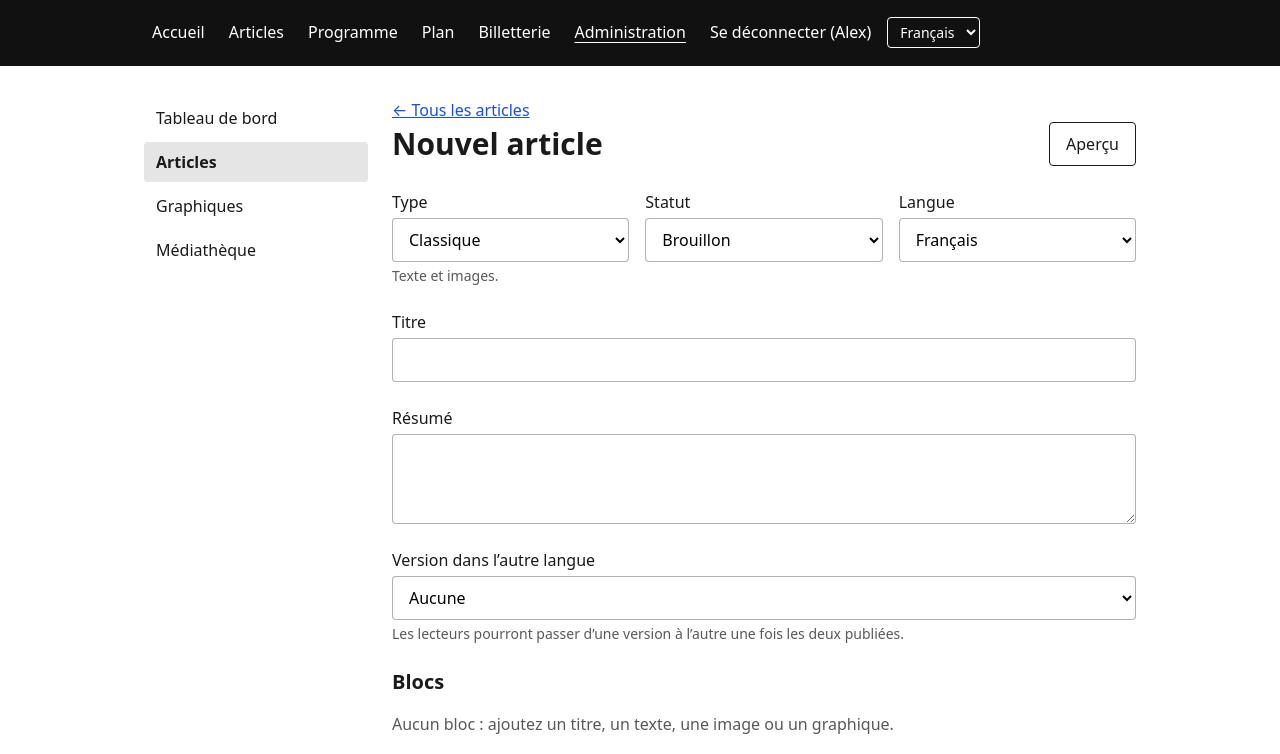
article editor › writes a new classic article and opens it
Type "Le festival en images" into the field labelled "Titre" at (764, 360), box top-left (392, 338), bottom-right (1136, 382)
(page scrolled)
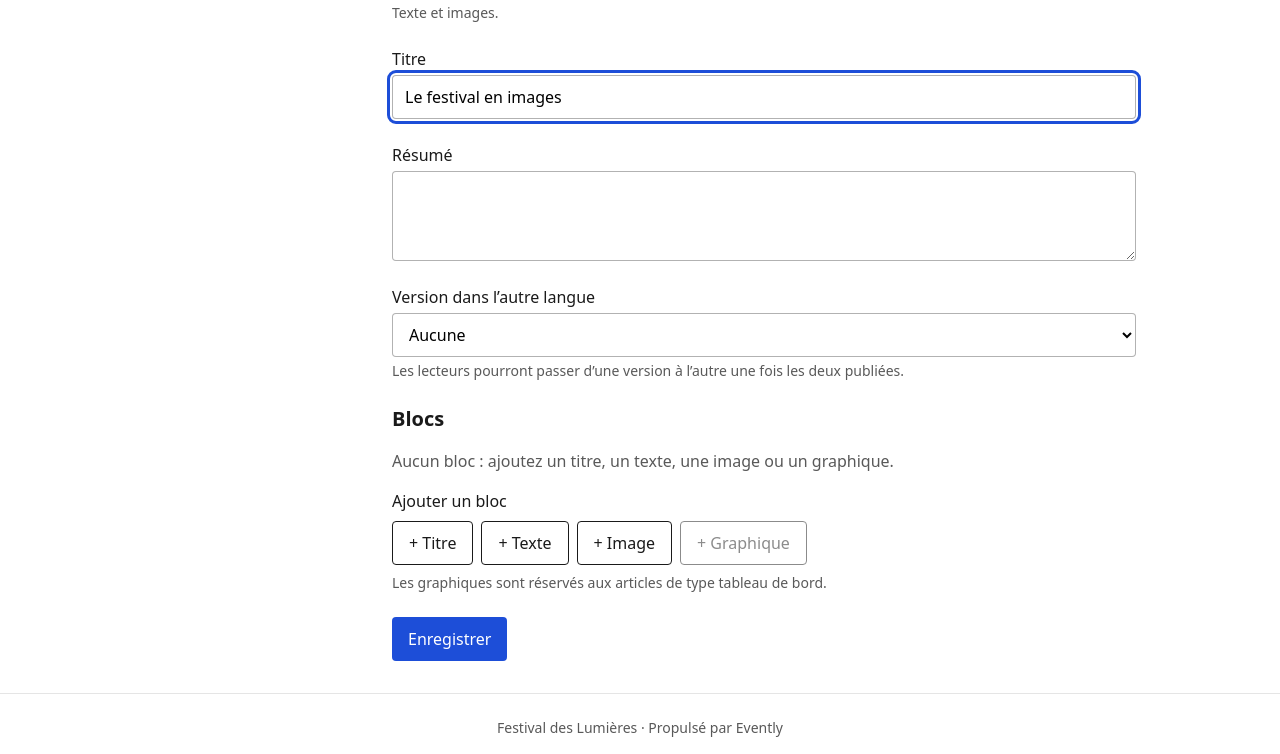
Click the button "+ Titre" at (433, 543), box top-left (392, 521), bottom-right (473, 565)
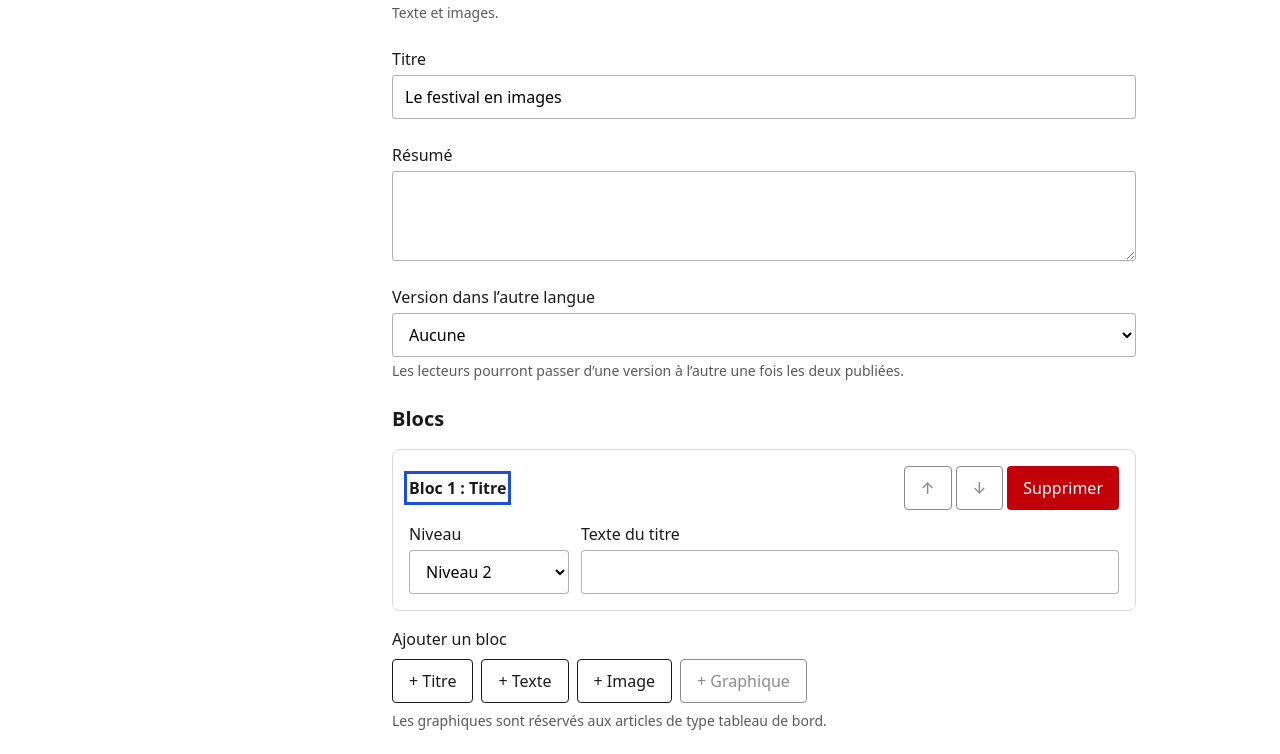
Type "Ambiance" into the field labelled "Texte du titre" at (850, 572), box top-left (581, 550), bottom-right (1119, 594)
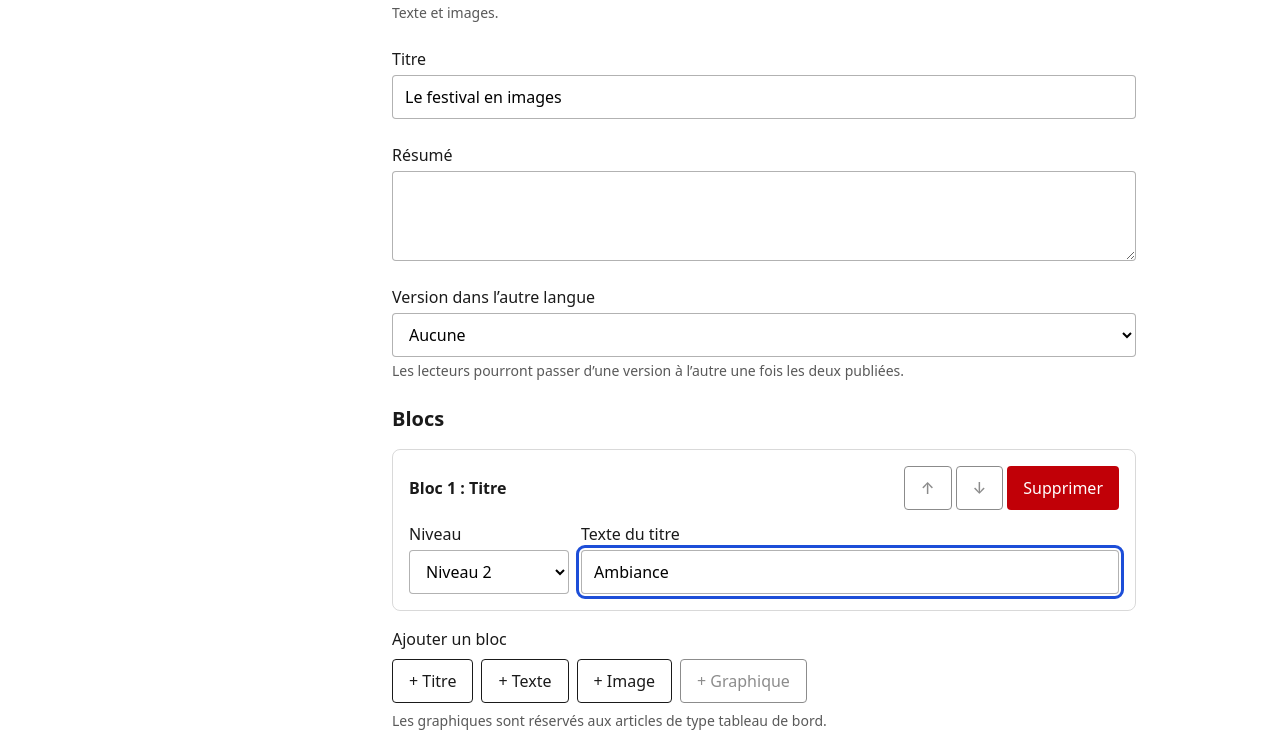
Click the button "+ Texte" at (525, 681), box top-left (481, 659), bottom-right (568, 703)
(page scrolled)
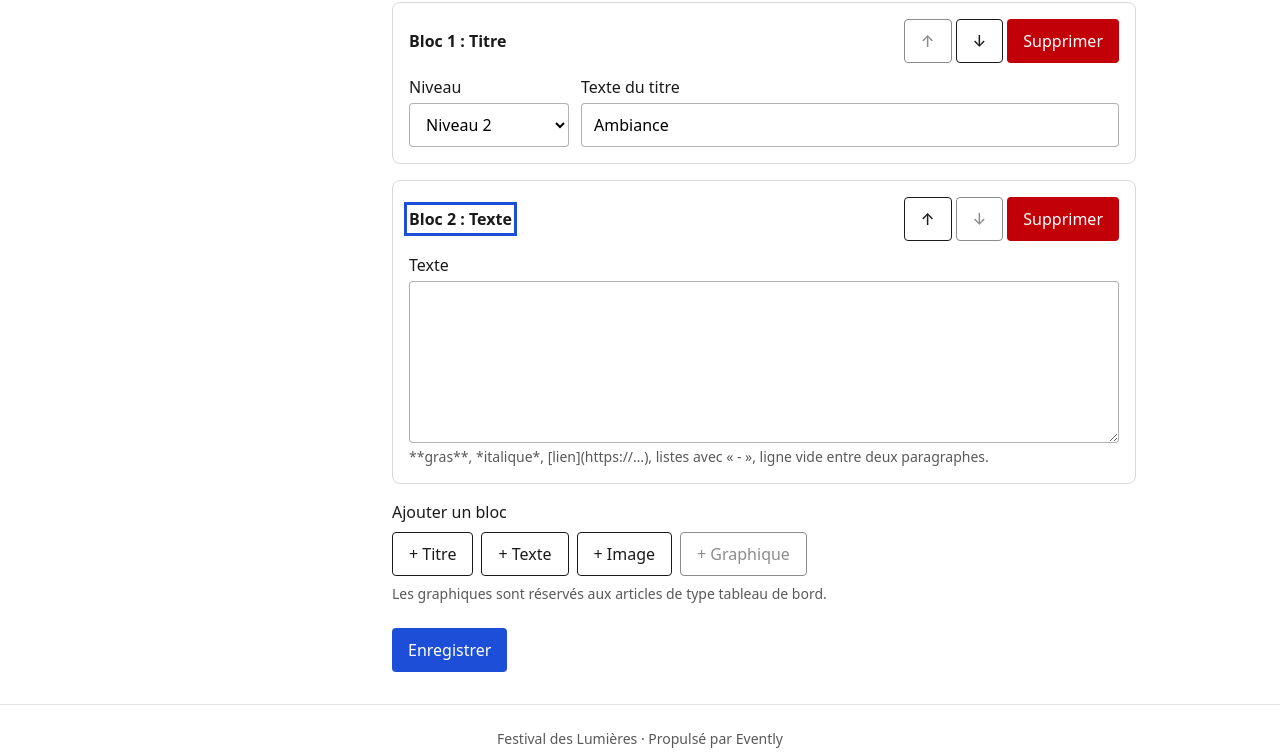
Type "Une belle édition." into the text box labelled "Texte" at (764, 362), box top-left (409, 281), bottom-right (1119, 443)
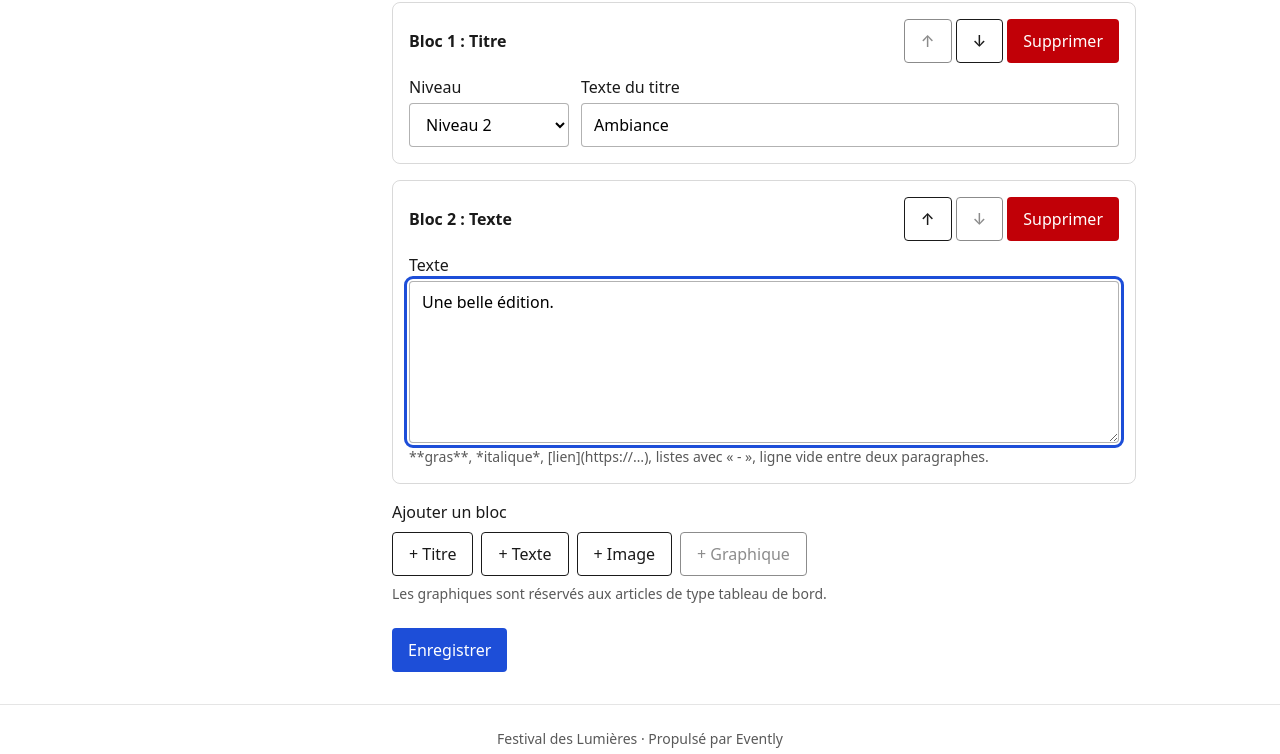
Expected: the button "+ Graphique" is disabled, top-left (680, 532), bottom-right (807, 576)
Click the button "Enregistrer" at (450, 650), box top-left (392, 628), bottom-right (507, 672)
(page scrolled)
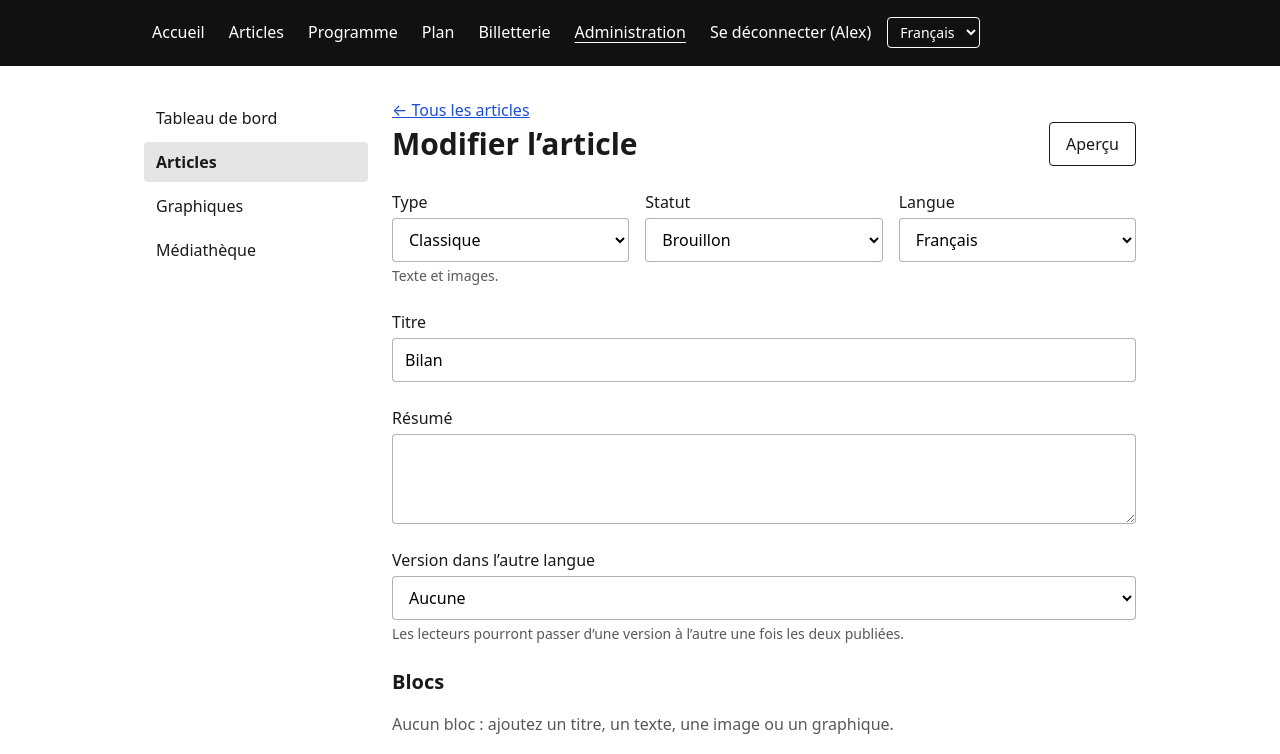
Expected: the heading "Modifier l’article" is shown, top-left (392, 126), bottom-right (638, 162)
